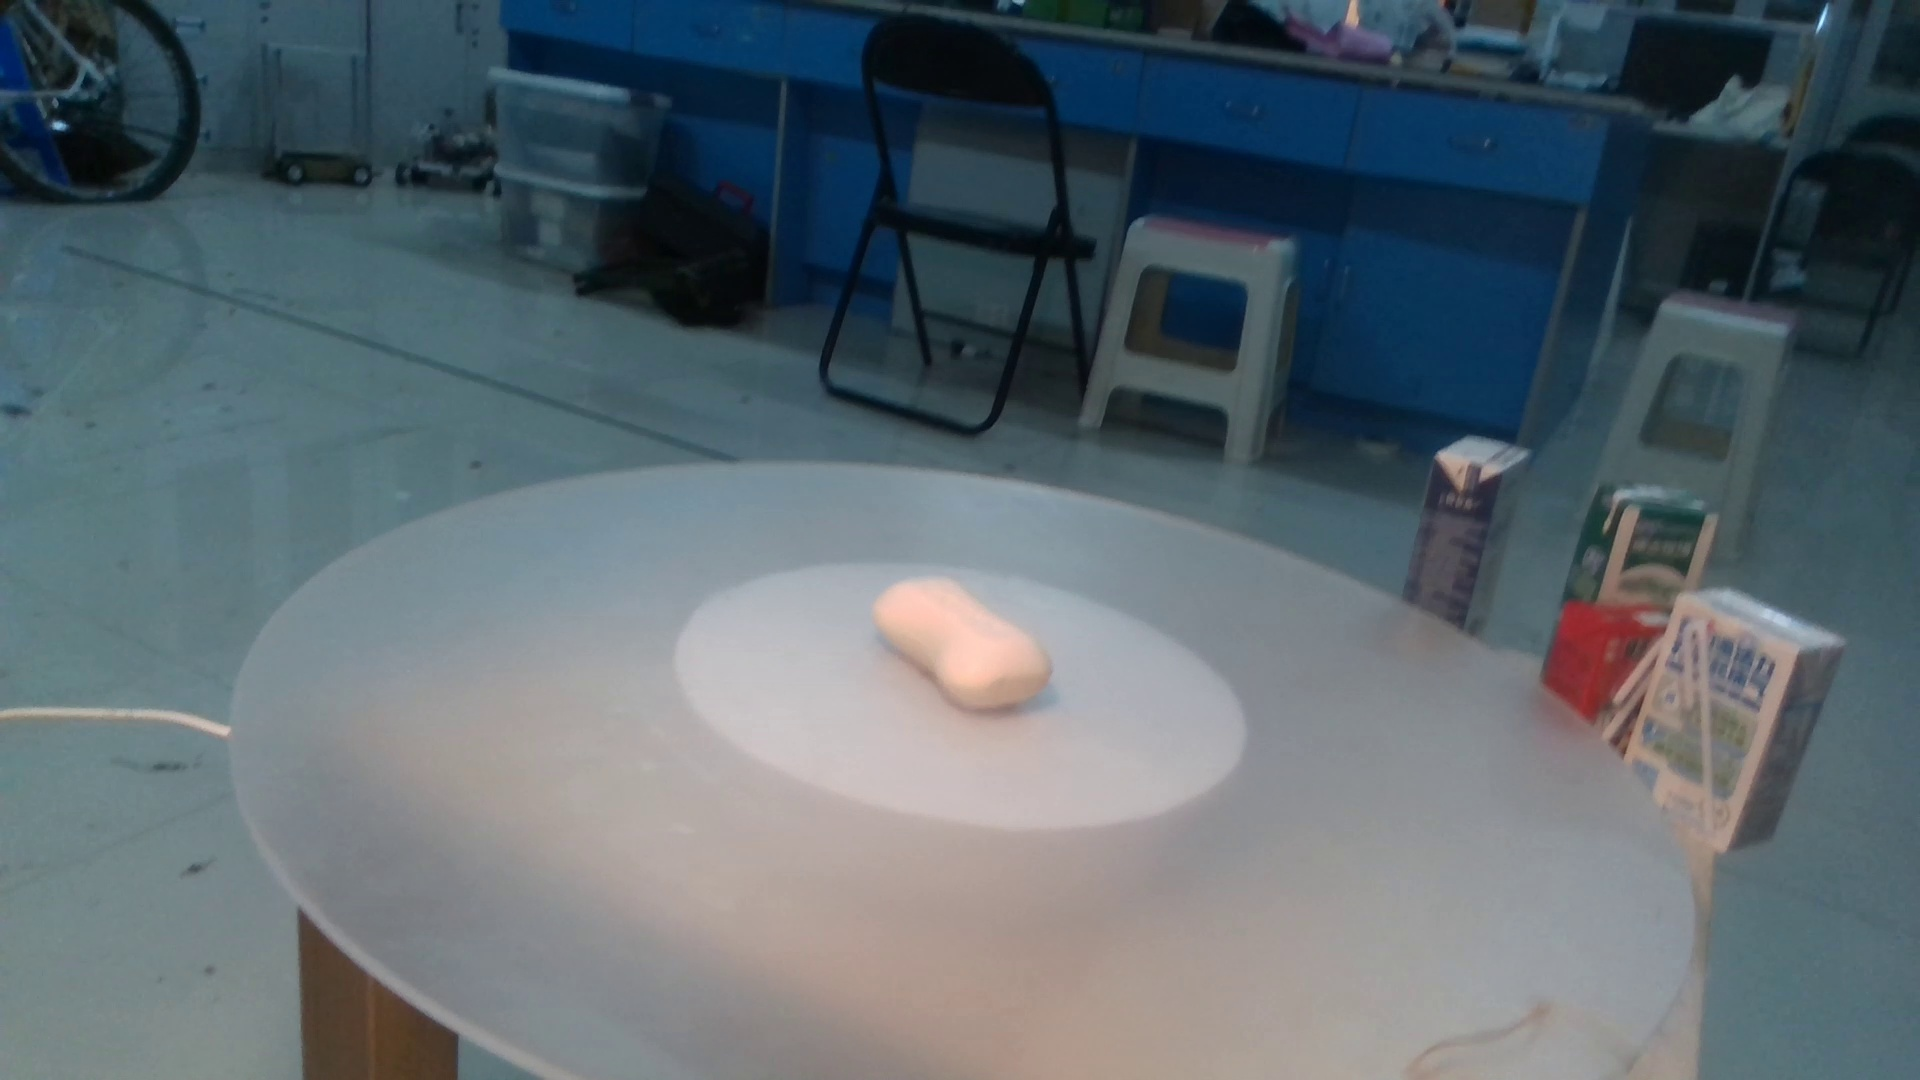CA003_1: (870, 549, 1112, 752)
